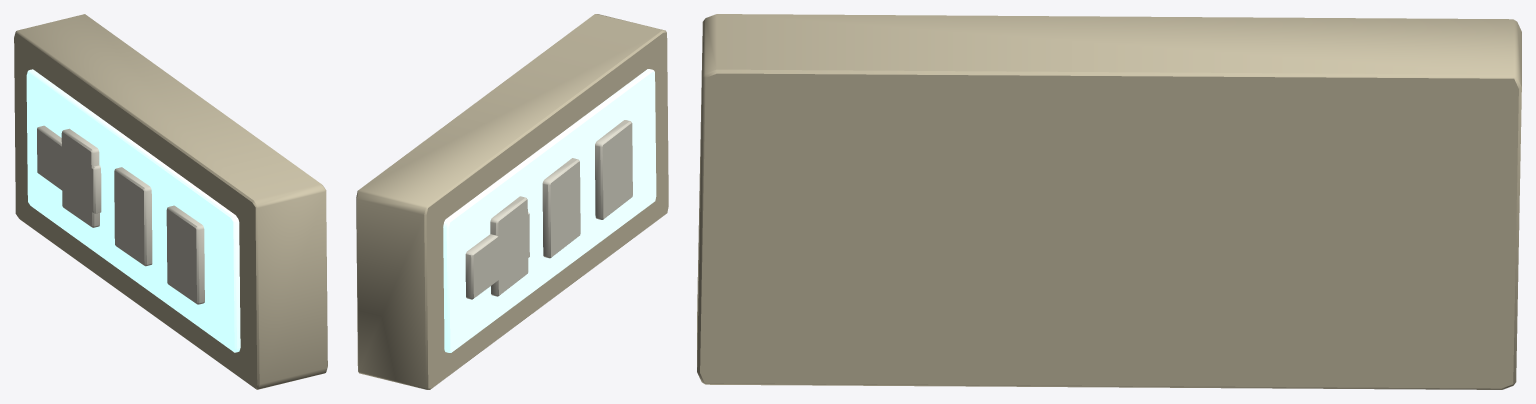
File: LV_exit_sign.fbx
The picture shows the model from 3 angles, left to right: view 1: azimuth 30°, elevation 25°; view 2: azimuth 150°, elevation 25°; view 3: azimuth 270°, elevation 25°; orthographic projection. The views are drawn at different scales.
Visible parts, largest first — view 1: LV_exit_sign; view 2: LV_exit_sign; view 3: LV_exit_sign.
Boxes of the visible parts, box(x1,y1,x2,y2) form: LV_exit_sign: box(14, 14, 327, 389); LV_exit_sign: box(356, 14, 668, 389); LV_exit_sign: box(697, 14, 1521, 389).
Bounding box in the file's own units: 0.082 × 0.18 × 0.42.
